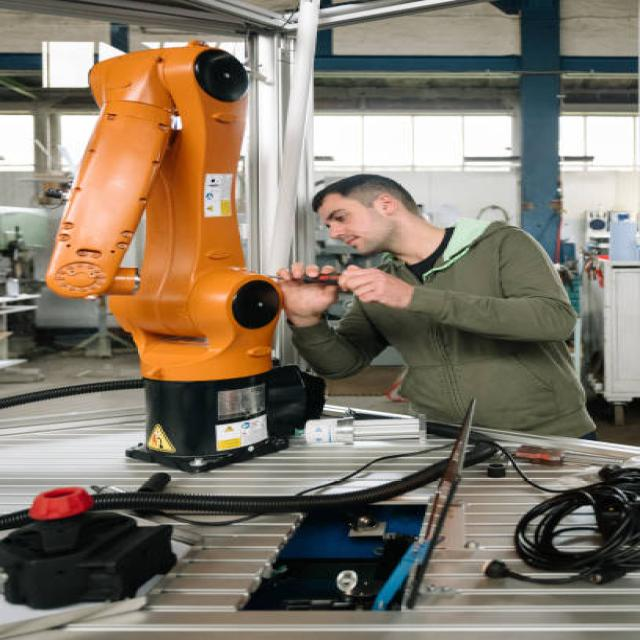Robotic-arm: (39, 41, 291, 386)
